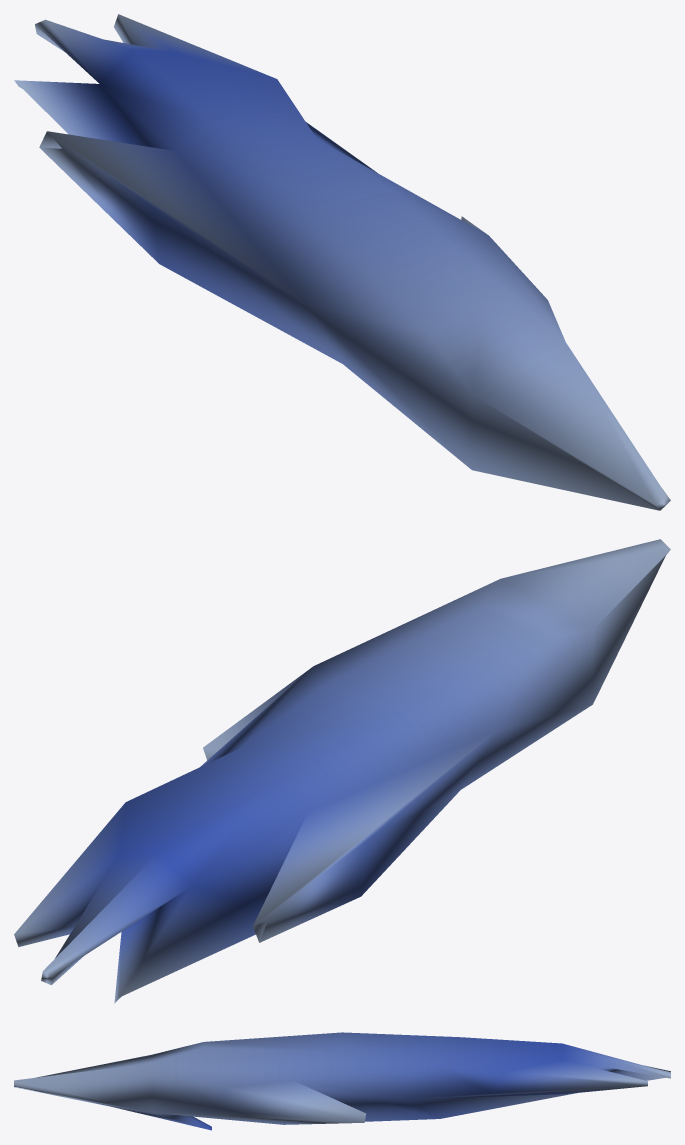
File: ice_shard.fbx
The picture shows the model from 3 angles, top to bottom: view 1: azimuth 30°, elevation 25°; view 2: azimuth 150°, elevation 25°; view 3: azimuth 270°, elevation 25°; orthographic projection. The views are drawn at different scales.
Visible parts, largest first — view 1: ice_shard; view 2: ice_shard; view 3: ice_shard.
Part boxes in pixels (bbox=[...]): ice_shard: bbox=[14, 14, 670, 510]; ice_shard: bbox=[14, 539, 670, 1003]; ice_shard: bbox=[14, 1032, 670, 1130].
Bounding box in the file's own units: 1.61 × 1.02 × 7.24.
